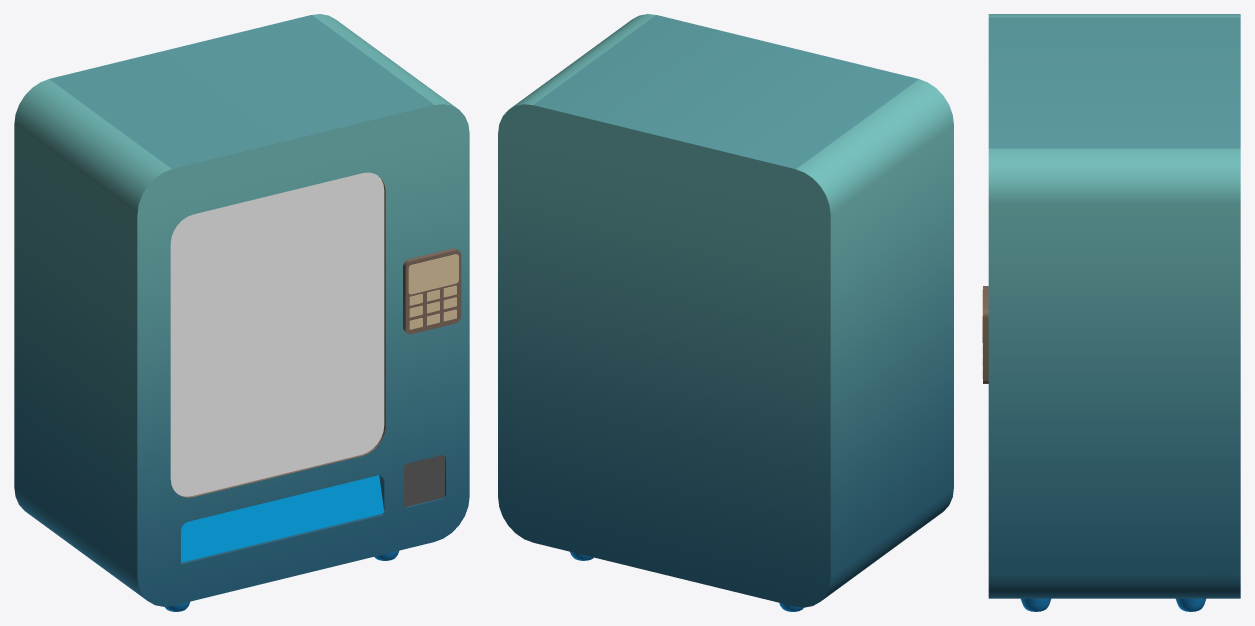
3 renders of one model, left to right at view 1: azimuth 30°, elevation 25°; view 2: azimuth 150°, elevation 25°; view 3: azimuth 270°, elevation 25°, orthographic. The views are drawn at different scales.
Parts seen in each view (by area): view 1: Cube.001_0, Cube.004_1, Cube.007_3, Cube.006_2, Cube.005_4; view 2: Cube.001_0; view 3: Cube.001_0, Cylinder_5, Cube.006_2.
Boxes of the visible parts, left/top/right/bottom form: Cube.001_0: left=14, top=14, right=469, bottom=606; Cube.004_1: left=170, top=172, right=384, bottom=496; Cube.007_3: left=181, top=475, right=384, bottom=562; Cube.006_2: left=403, top=248, right=461, bottom=334; Cube.005_4: left=403, top=455, right=444, bottom=506; Cube.001_0: left=498, top=14, right=953, bottom=607; Cube.001_0: left=988, top=14, right=1240, bottom=598; Cylinder_5: left=1021, top=598, right=1205, bottom=611; Cube.006_2: left=982, top=286, right=988, bottom=383.
Size of the model in its own units: 58.03 by 88.18 by 118.
14 materials, 6 textured.
